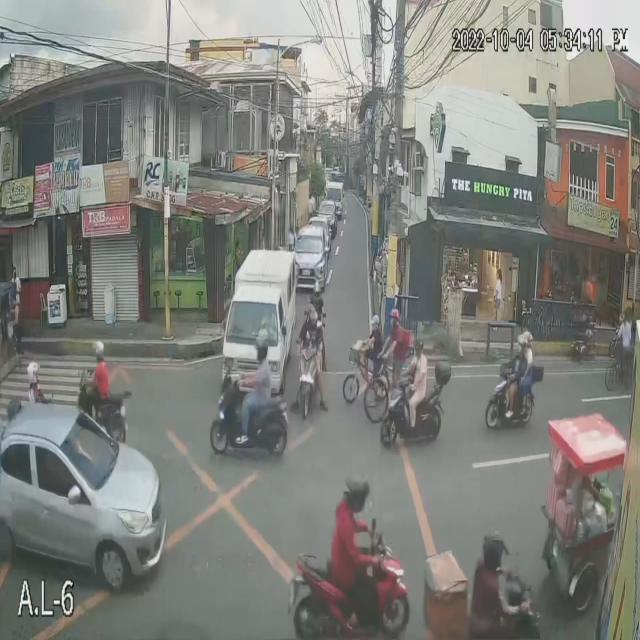Full-Faced: (340, 472, 371, 514), (479, 529, 510, 568), (252, 329, 270, 361), (87, 334, 106, 362), (26, 354, 41, 386), (304, 300, 320, 330), (512, 328, 525, 356), (523, 325, 534, 349)
Invalid: (413, 334, 427, 364)
